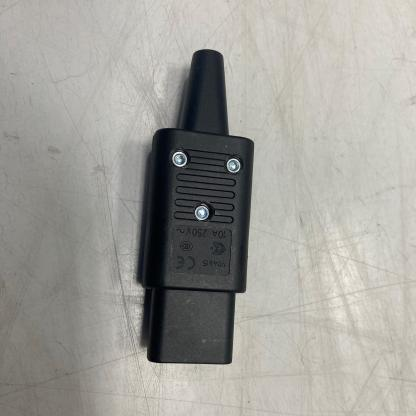SP0000006: (86, 22, 312, 399)
